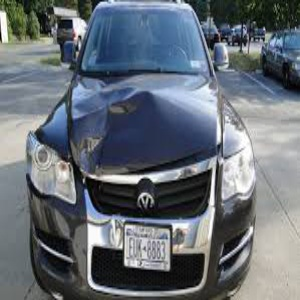bonnet: (70, 79, 216, 165)
